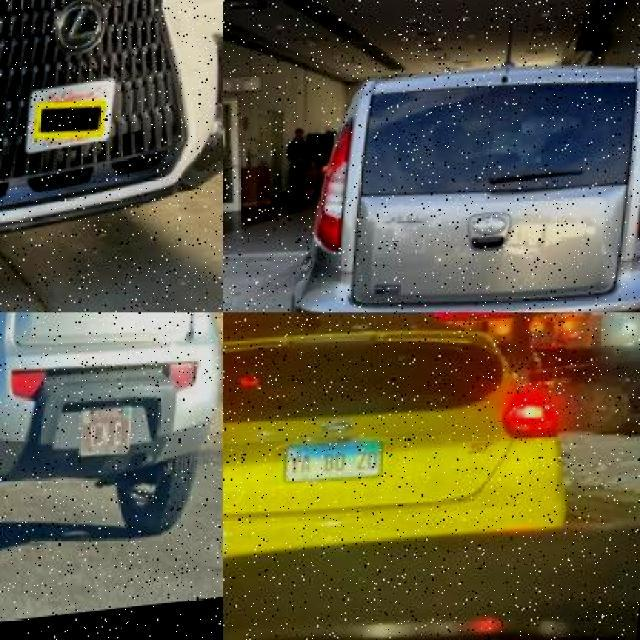LicensePlate: (28, 88, 118, 162), (284, 447, 384, 487), (80, 413, 135, 466)
